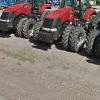Tractor: (10, 2, 100, 65)
